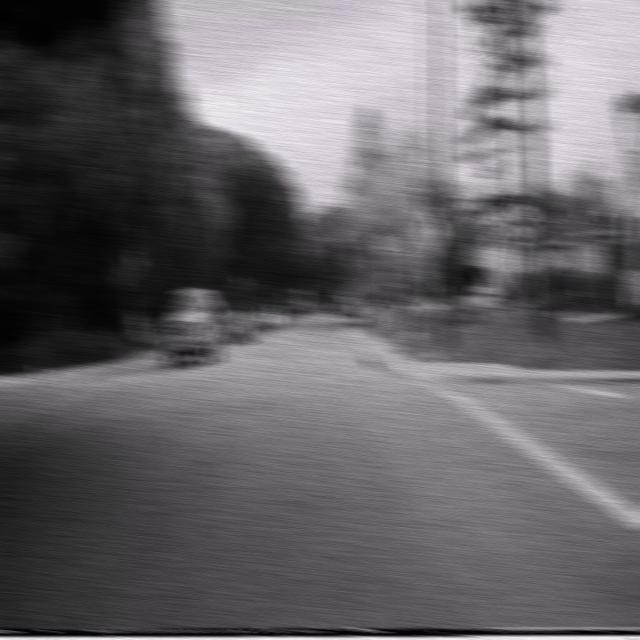pedestrianCrossing: (414, 206, 446, 257)
